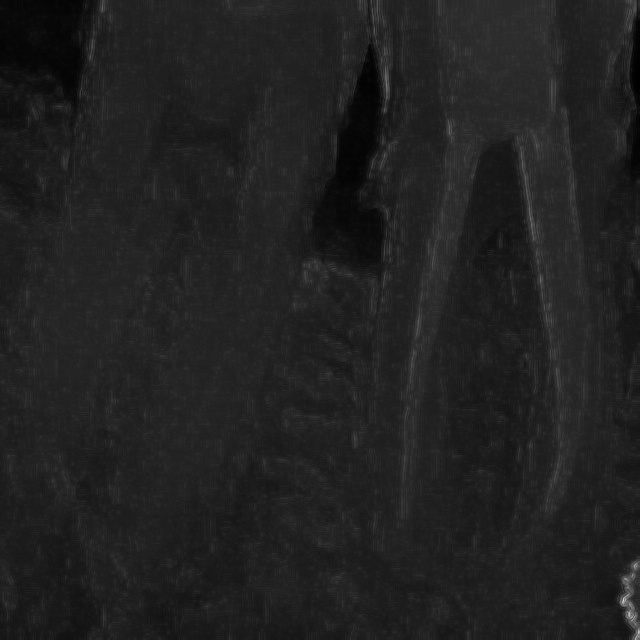Class 0- No endodontic treatment: (352, 3, 627, 610)
